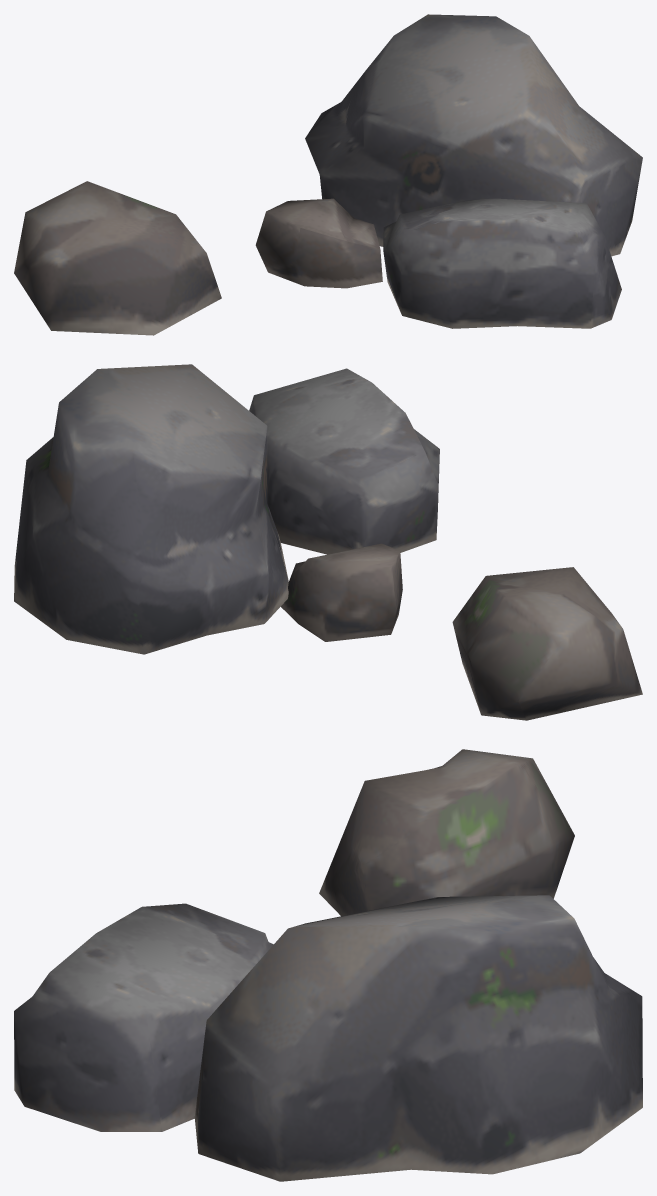
File: hbxz_wj011_01.FBX
3 renders of one model, top to bottom at view 1: azimuth 30°, elevation 25°; view 2: azimuth 150°, elevation 25°; view 3: azimuth 270°, elevation 25°, orthographic. The views are drawn at different scales.
Parts seen in each view (by area): view 1: hbxz_wj011_01; view 2: hbxz_wj011_01; view 3: hbxz_wj011_01.
Part boxes in pixels (box(x1,y1,x2,y2)): hbxz_wj011_01: box(14, 14, 642, 335); hbxz_wj011_01: box(14, 364, 642, 720); hbxz_wj011_01: box(14, 749, 642, 1181).
Bounding box in the file's own units: 247 × 75.66 × 182.
1 material, 1 textured.
